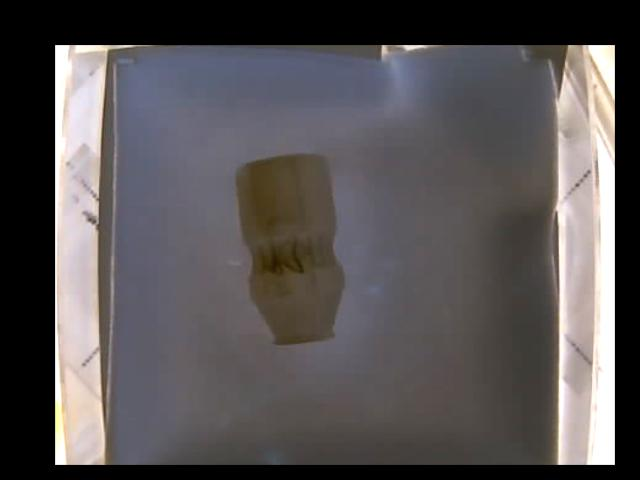Bottle: (234, 151, 344, 343)
